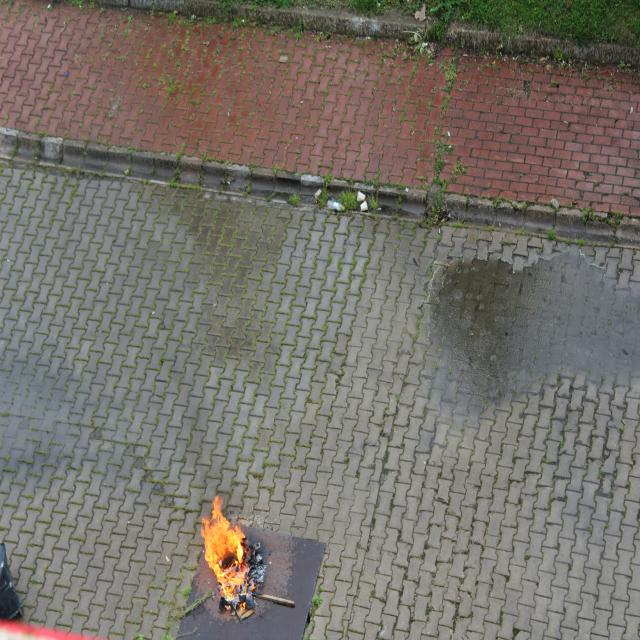fire: (198, 493, 252, 604)
